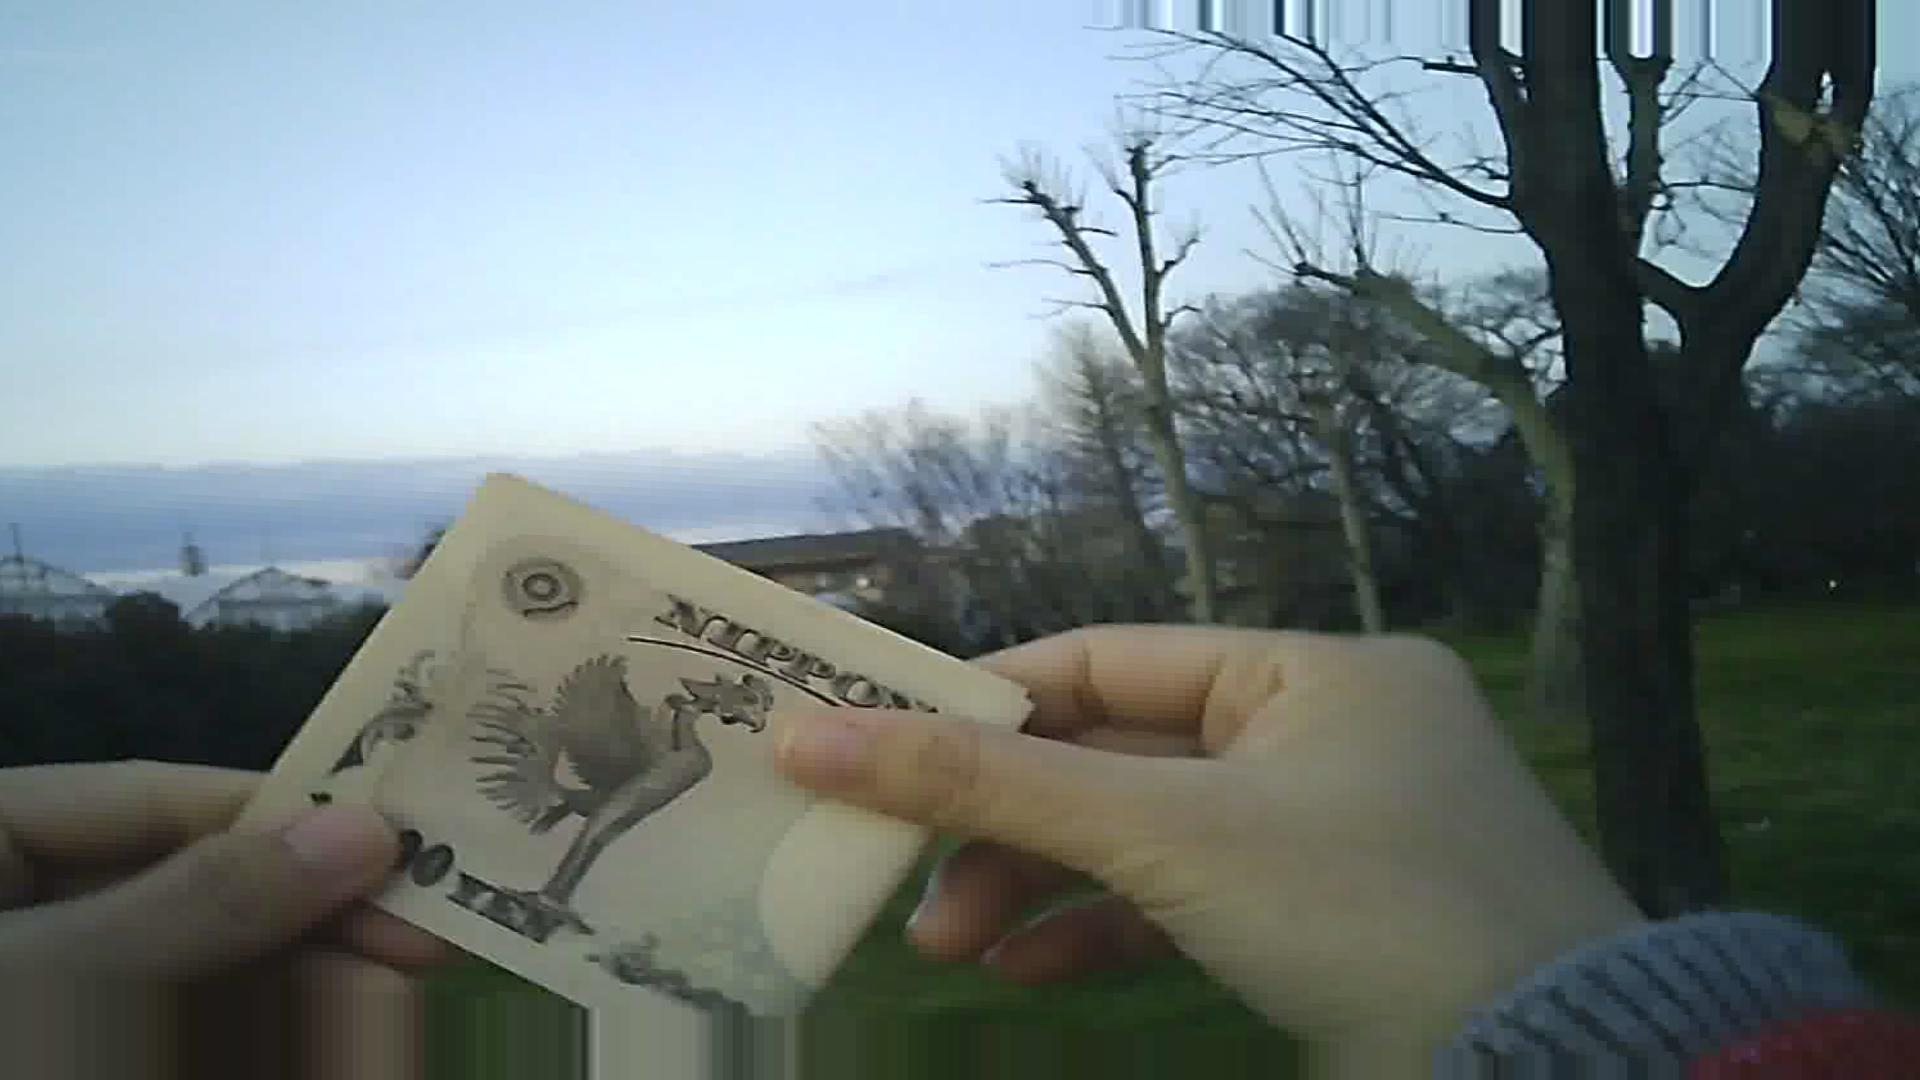10,000 Yen: (215, 489, 1011, 993)
